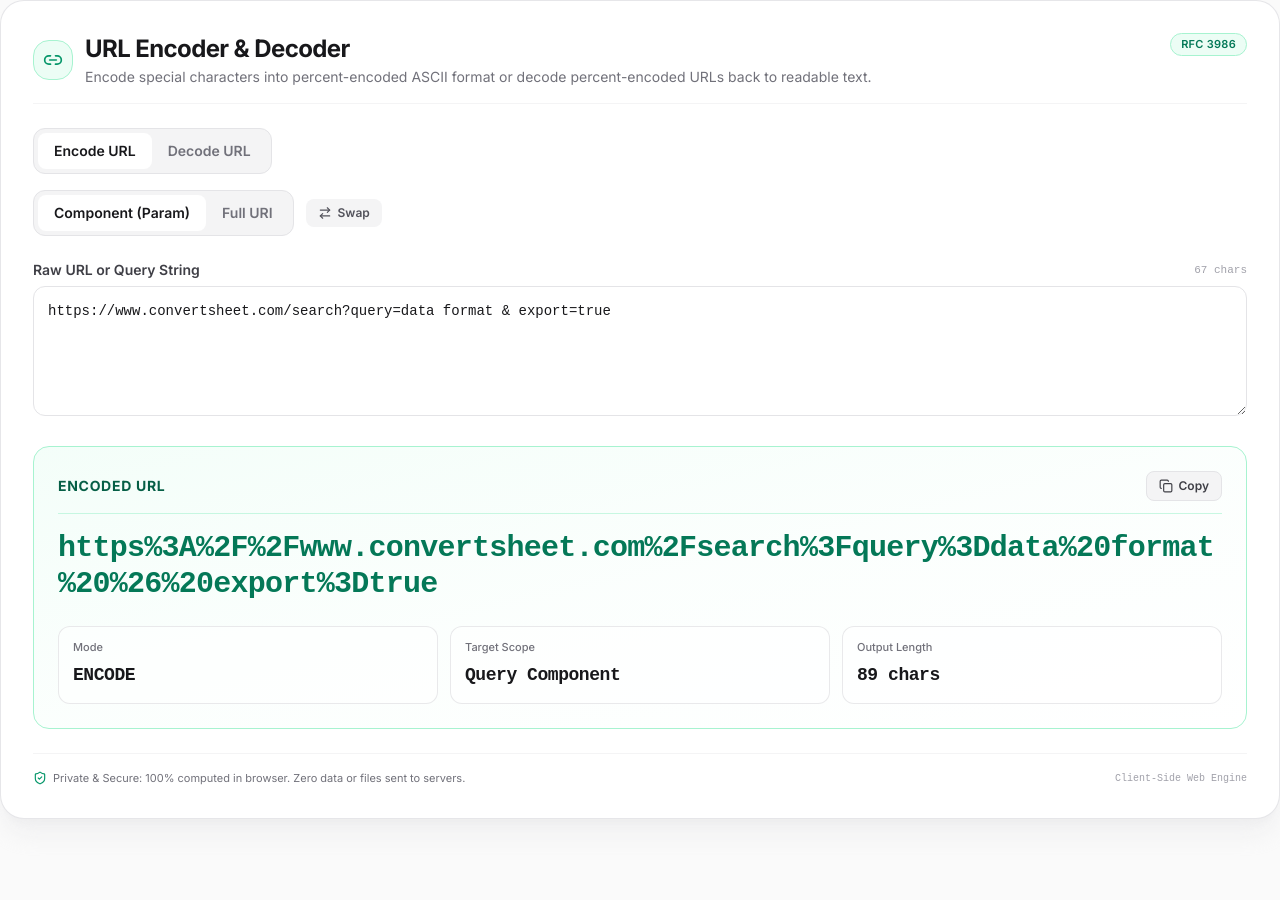
Test case: Data & Developer Tools Suite › UrlEncoderTool encodes and decodes URI strings
Expected: the heading "URL Encoder & Decoder" is shown, [85,34,350,63]
Replace the text in the text box labelled "Raw URL or Query String" with "hello world&foo=bar": (640, 351) [33,286,1247,416]
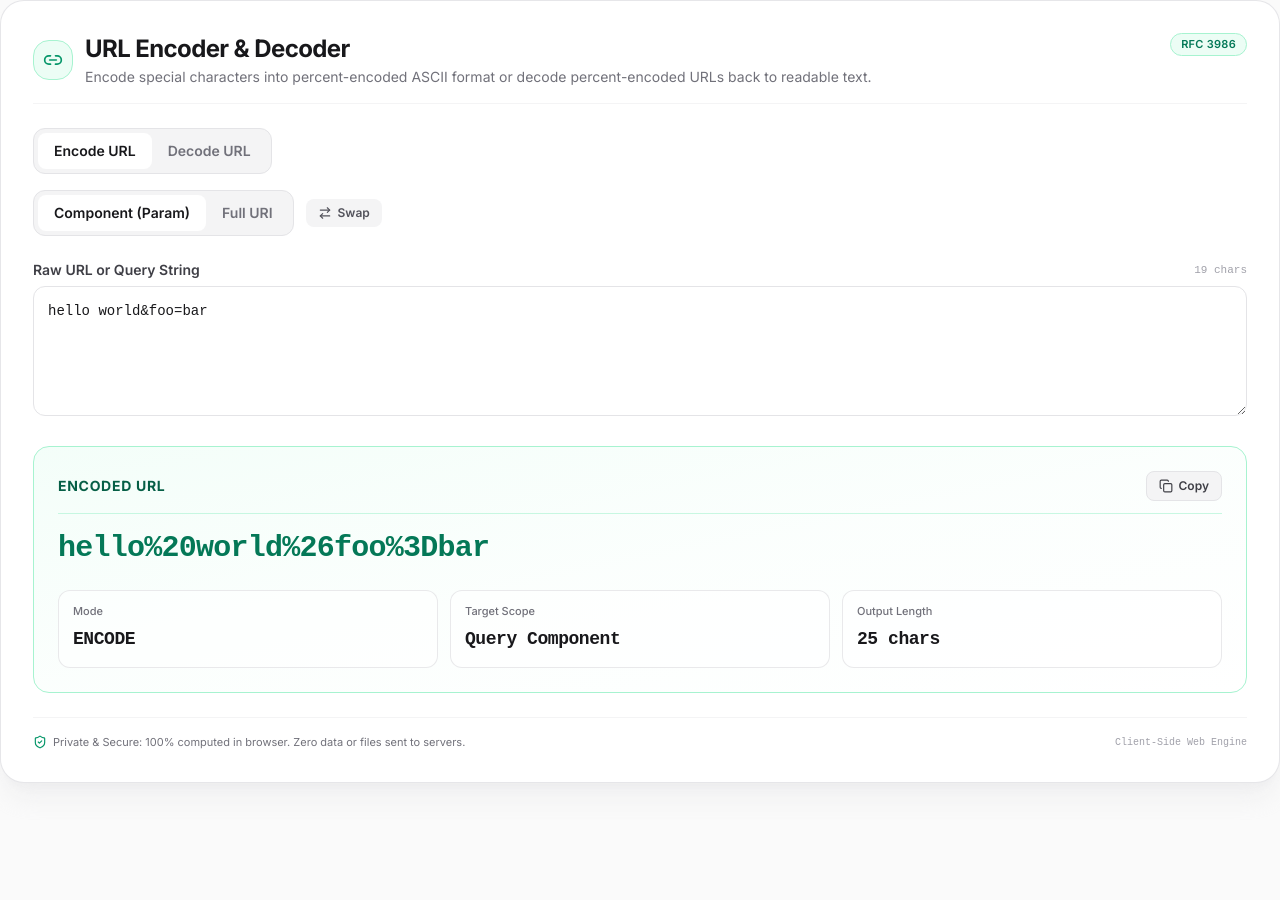
Now the text "hello%20world%26foo%3Dbar" is shown, box [58,531,489,565]
